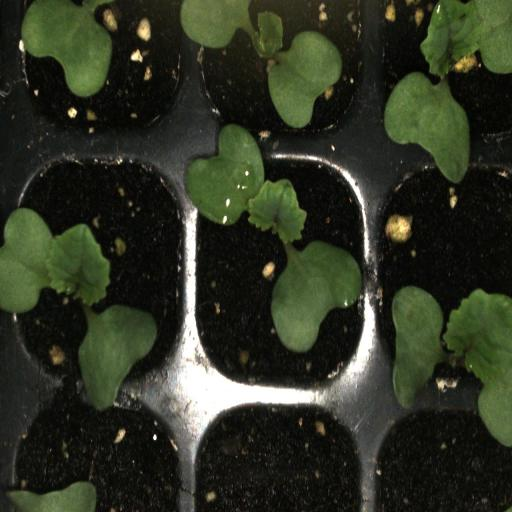noseedling: (188, 402, 368, 512), (370, 399, 512, 512)
seedling: (7, 138, 191, 392), (191, 148, 371, 398), (369, 145, 512, 401), (196, 0, 374, 139), (373, 0, 512, 148)
